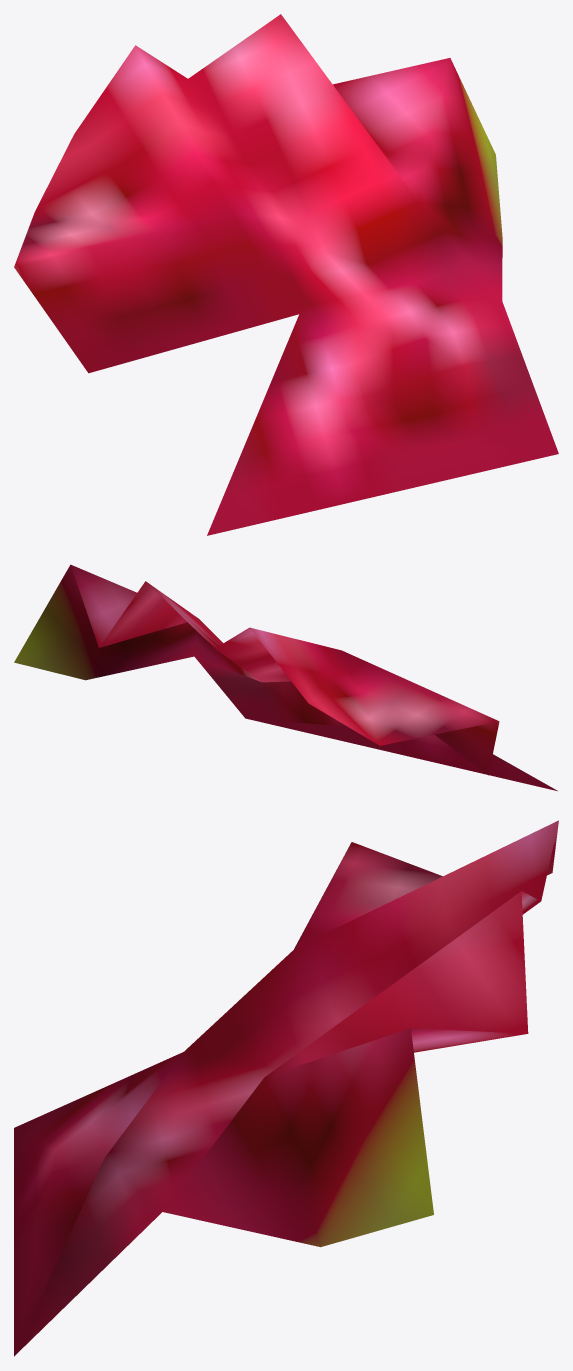
The model's file is fg_coral_out.dae.
3 views of the same model, one above another, from view 1: azimuth 30°, elevation 25°; view 2: azimuth 150°, elevation 25°; view 3: azimuth 270°, elevation 25° (orthographic). The views are drawn at different scales.
Parts seen in each view (by area): view 1: fg_coral_out; view 2: fg_coral_out; view 3: fg_coral_out.
Part boxes in pixels (bbox=[...]): fg_coral_out: bbox=[14, 14, 558, 535]; fg_coral_out: bbox=[14, 564, 557, 790]; fg_coral_out: bbox=[14, 820, 558, 1356].
Bounding box in the file's own units: 16.88 × 9.97 × 11.92.
Materials: 1 (1 with a texture image).
